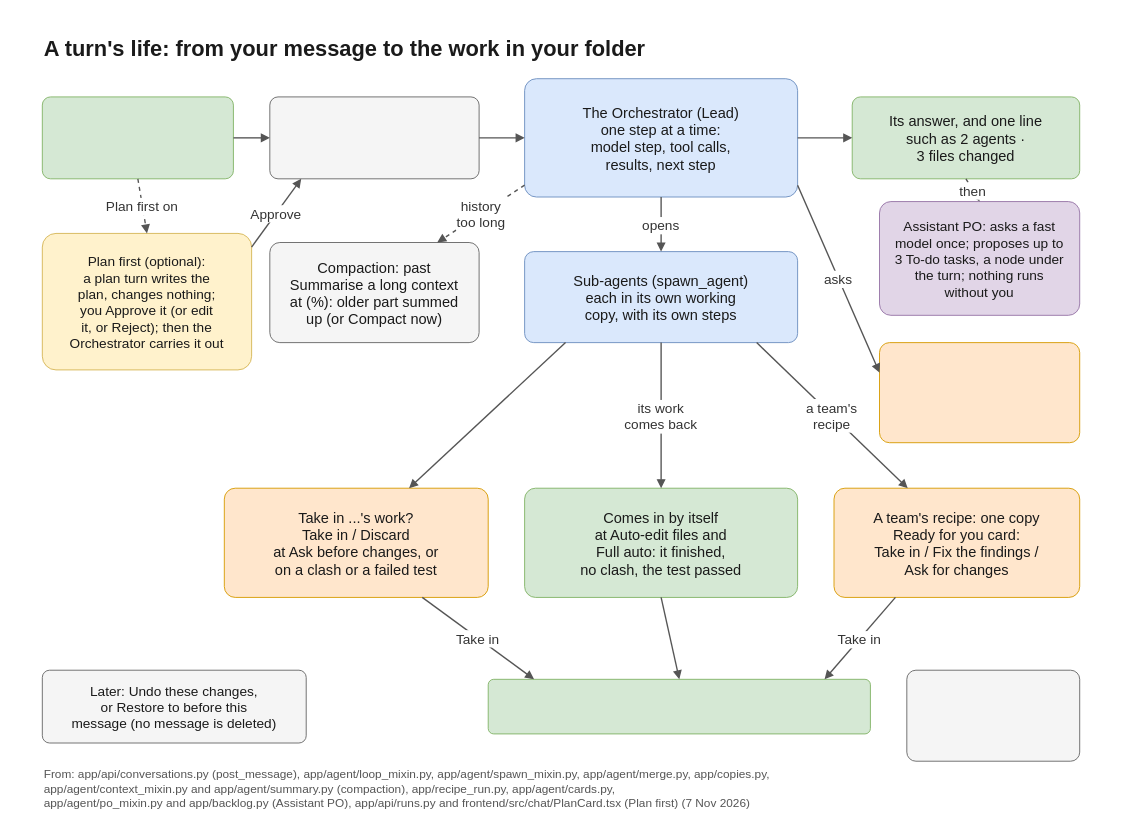
This 1122x831 diagram has some shape labels left out. Each missing label, with the centre of its shape:
"Every step is recorded; the canvas draws the turn from that record" belongs at [993,715].
"Needs you? A card. The run waits for your answer (Ready for you)" belongs at [979,392].
"The server records it and starts a run (one asyncio task)" belongs at [374,137].
"You send a message (Queue, while agents work)" belongs at [137,137].
"Your project folder" belongs at [678,706].
